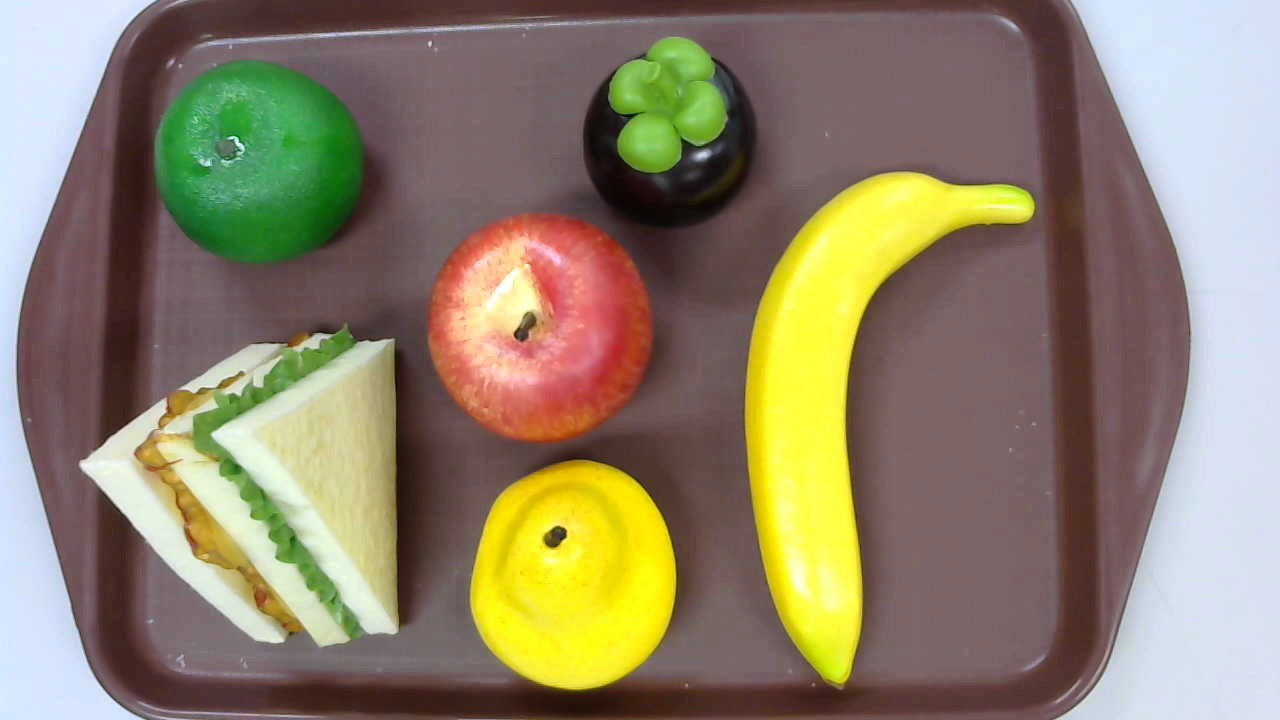banana: (743, 171, 1036, 691)
green orange: (154, 61, 365, 263)
mangosteen: (582, 37, 757, 226)
red apple: (424, 212, 654, 446)
sandwich: (79, 324, 399, 648)
yellow pear: (469, 459, 677, 691)
